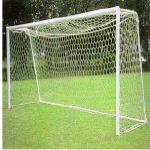goals: (6, 6, 150, 139)
